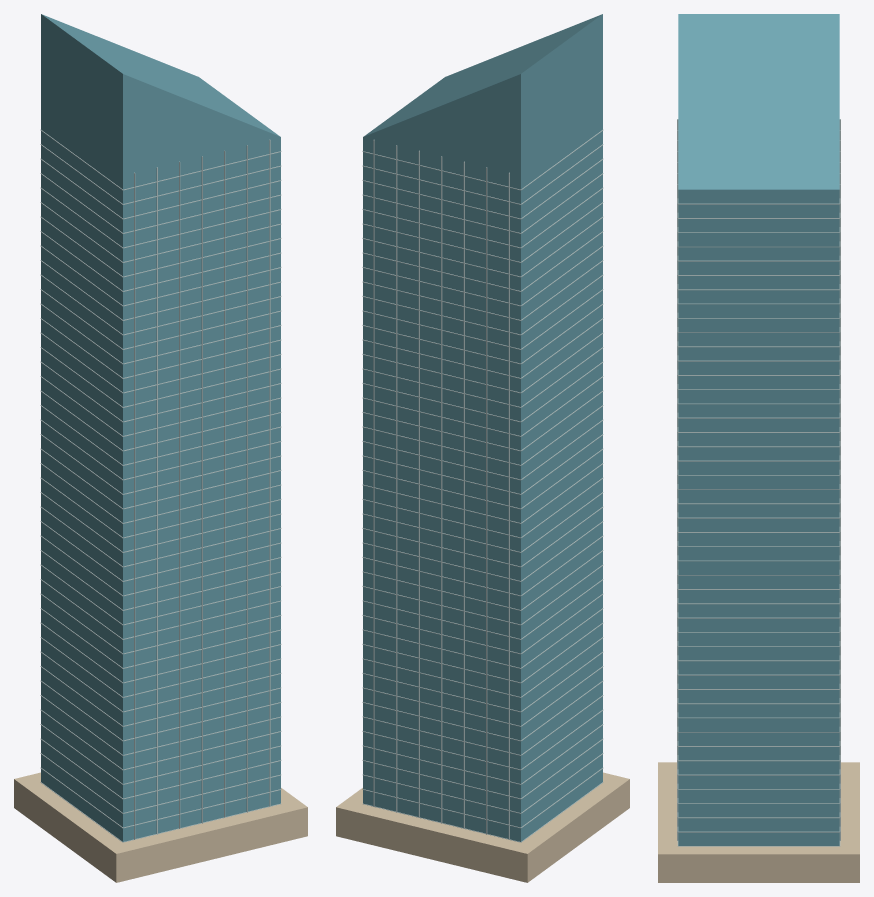
The model's file is one-lujiazui.glb.
The picture shows the model from 3 angles, left to right: view 1: azimuth 30°, elevation 25°; view 2: azimuth 150°, elevation 25°; view 3: azimuth 270°, elevation 25°; orthographic projection.
Parts seen in each view (by area): view 1: one-lujiazui; view 2: one-lujiazui; view 3: one-lujiazui.
Part boxes in pixels (box(x1,y1,x2,y2)): one-lujiazui: box(14, 14, 307, 882); one-lujiazui: box(336, 14, 629, 882); one-lujiazui: box(658, 14, 859, 882).
Size of the model in its own units: 67.63 by 269 by 62.63.
